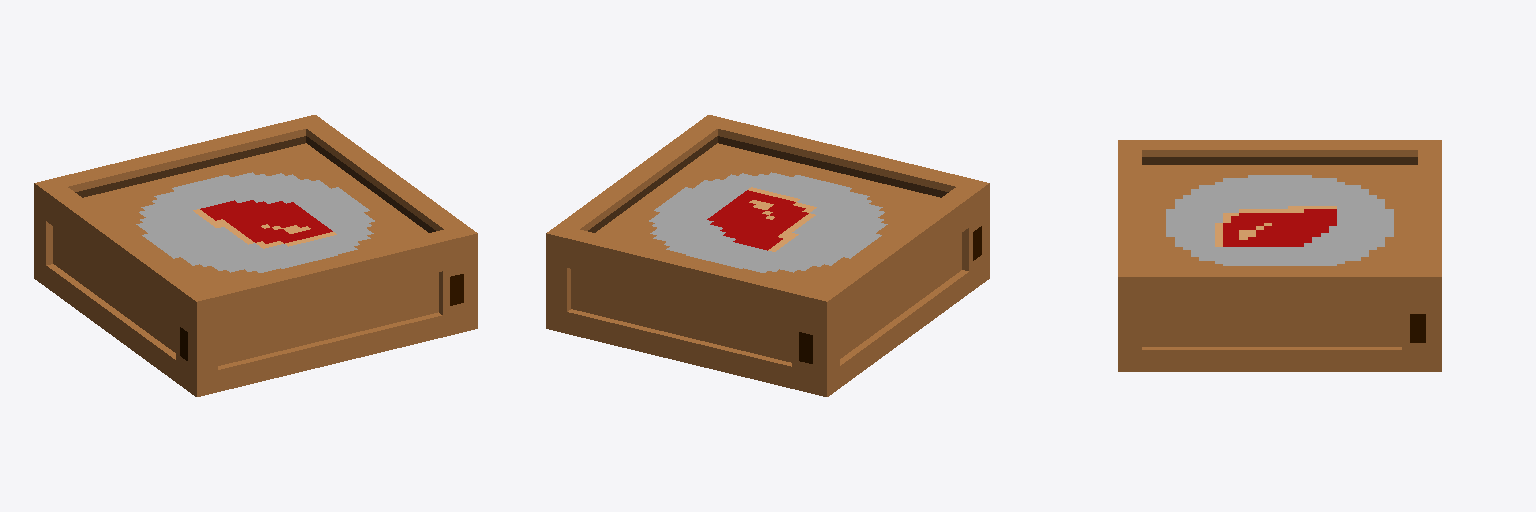
3 views of the same model, side by side, from view 1: azimuth 30°, elevation 25°; view 2: azimuth 150°, elevation 25°; view 3: azimuth 270°, elevation 25° (orthographic).
Parts seen in each view (by area): view 1: object 1; view 2: object 1; view 3: object 1.
Part boxes in pixels (x1,y1,x2,y2): object 1: (34,115,477,396); object 1: (546,115,989,396); object 1: (1118,140,1441,371).
Bounding box in the file's own units: 4 × 1.3 × 4.
Materials: 1 (1 with a texture image).